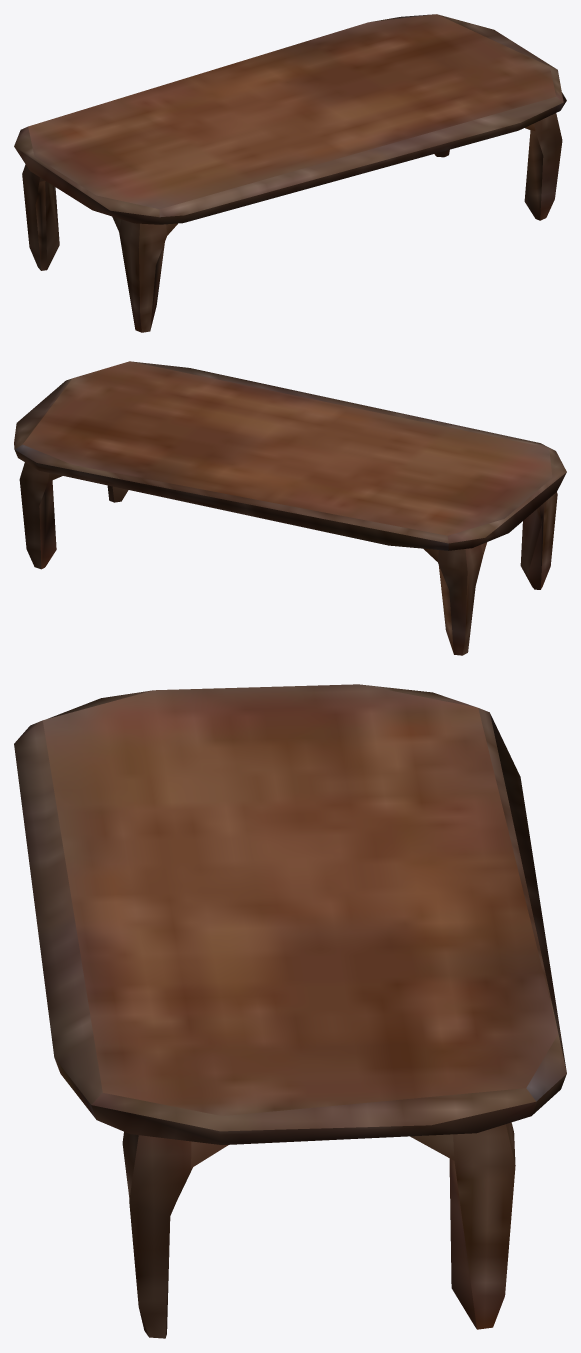
File: coffee-table.lod1.glb
The picture shows the model from 3 angles, top to bottom: view 1: azimuth 30°, elevation 25°; view 2: azimuth 150°, elevation 25°; view 3: azimuth 270°, elevation 25°; orthographic projection. The views are drawn at different scales.
Parts seen in each view (by area): view 1: COFFEETABLE_TEXSET_A_0; view 2: COFFEETABLE_TEXSET_A_0; view 3: COFFEETABLE_TEXSET_A_0.
Part boxes in pixels (bbox=[...]): COFFEETABLE_TEXSET_A_0: bbox=[14, 14, 566, 332]; COFFEETABLE_TEXSET_A_0: bbox=[14, 361, 566, 655]; COFFEETABLE_TEXSET_A_0: bbox=[14, 684, 566, 1338].
Bounding box in the file's own units: 1.39 × 0.356 × 0.7347.
Materials: 1 (1 with a texture image).
